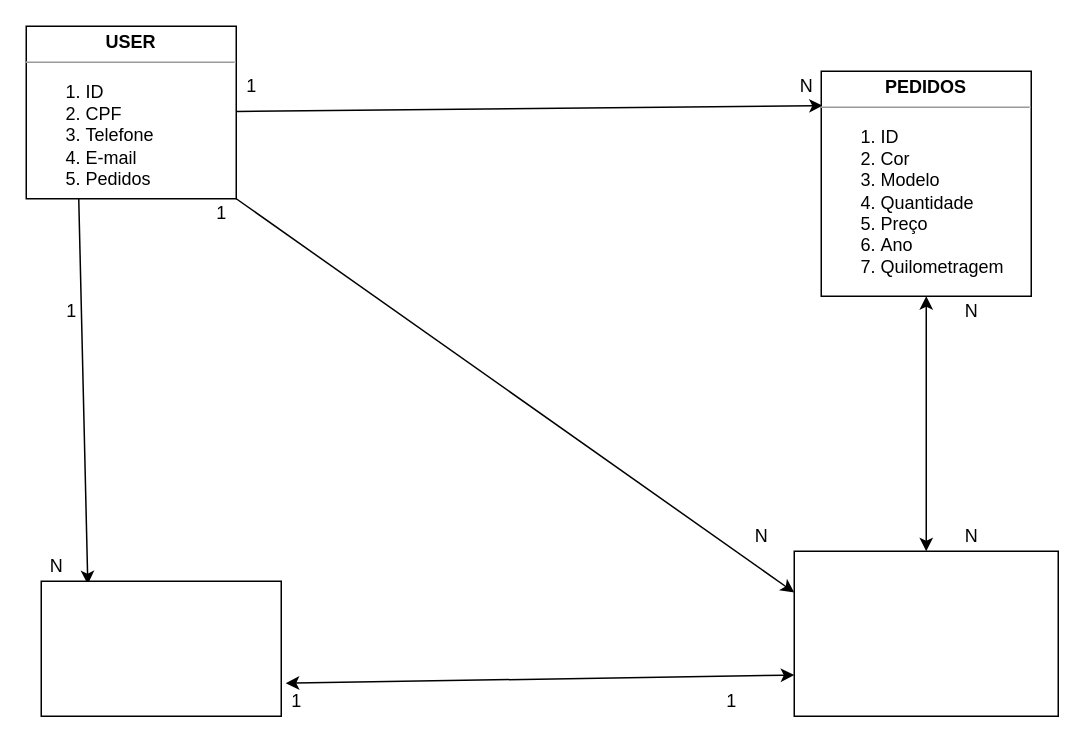
The diagram is 1085 pixels wide and 743 high, and some of its shapes have lost their labels. The shapes that lost their labels are listed below. From the top down, each one's box as (x1, y1, x2, y2) in pixels, then its label:
(40, 580, 281, 716): Cupons Id Valor de desconto Descrição
(793, 550, 1058, 716): Carrinho de Compras ID Valor Pedido Situação de entrega
